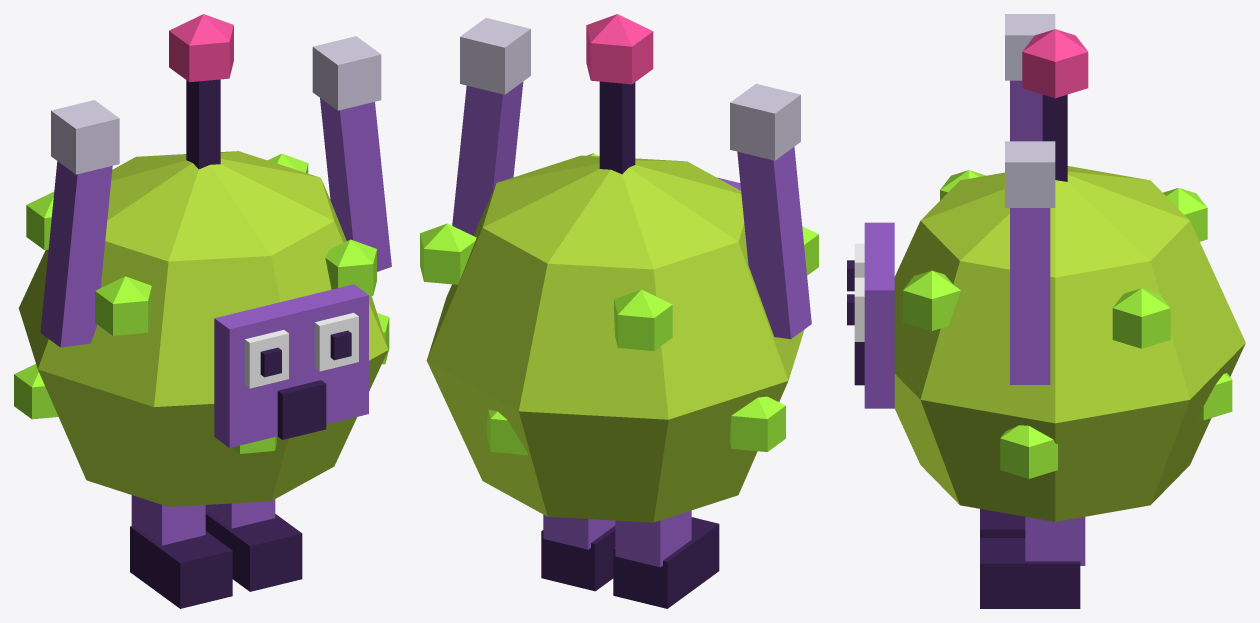
The model's file is kamikaze_r11.glb.
3 views of the same model, side by side, from view 1: azimuth 30°, elevation 25°; view 2: azimuth 150°, elevation 25°; view 3: azimuth 270°, elevation 25° (orthographic). The views are drawn at different scales.
Parts seen in each view (by area): view 1: kamikaze_r11_mesh; view 2: kamikaze_r11_mesh; view 3: kamikaze_r11_mesh.
Boxes of the visible parts, x1,y1,x2,y2 form: kamikaze_r11_mesh: (14, 14, 391, 608); kamikaze_r11_mesh: (420, 14, 818, 608); kamikaze_r11_mesh: (847, 14, 1245, 608).
Bounding box in the file's own units: 0.8373 × 1.3 × 0.8541.
Materials: 1 (1 with a texture image).
